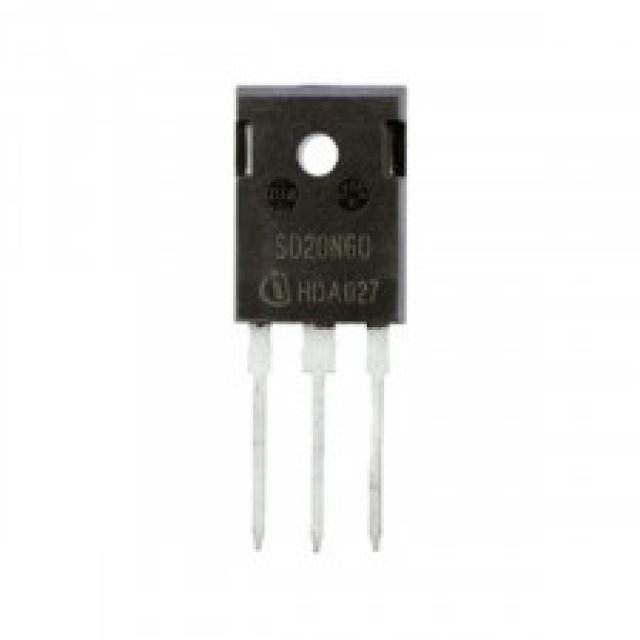Transistor: (236, 86, 404, 561)
